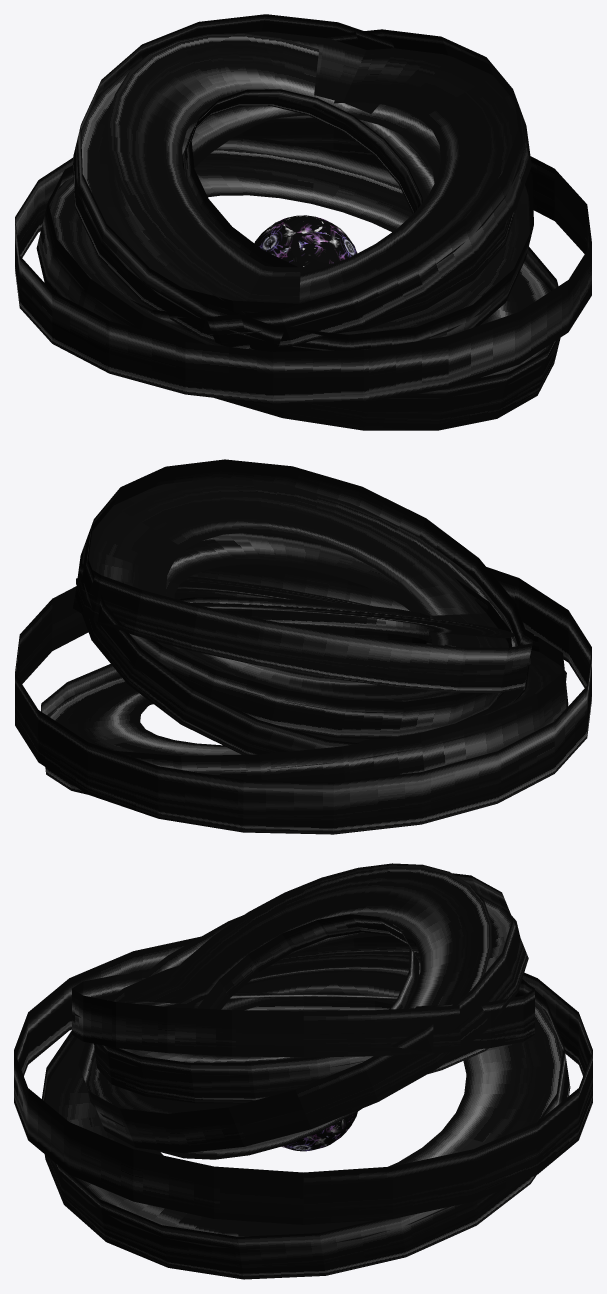
Rendered from stageProb.fbx.
The picture shows the model from 3 angles, top to bottom: view 1: azimuth 30°, elevation 25°; view 2: azimuth 150°, elevation 25°; view 3: azimuth 270°, elevation 25°; orthographic projection.
Parts seen in each view (by area): view 1: cylinder ring 10 (×6), ring 21 (×5), Sphere, Sphere (1); view 2: cylinder ring 10 (×6), ring 21 (×5); view 3: cylinder ring 10 (×6), ring 21 (×5), Sphere (1).
Boxes of the visible parts, x1=… form: cylinder ring 10 (×6): x1=15, y1=14, x2=591, y2=430; ring 21 (×5): x1=44, y1=31, x2=559, y2=398; Sphere: x1=254, y1=216, x2=349, y2=267; Sphere (1): x1=269, y1=215, x2=357, y2=266; cylinder ring 10 (×6): x1=15, y1=459, x2=591, y2=834; ring 21 (×5): x1=47, y1=478, x2=566, y2=771; cylinder ring 10 (×6): x1=14, y1=873, x2=592, y2=1279; ring 21 (×5): x1=45, y1=863, x2=566, y2=1249; Sphere (1): x1=282, y1=1112, x2=357, y2=1151.
Size of the model in its own units: 20 by 9.93 by 20.
